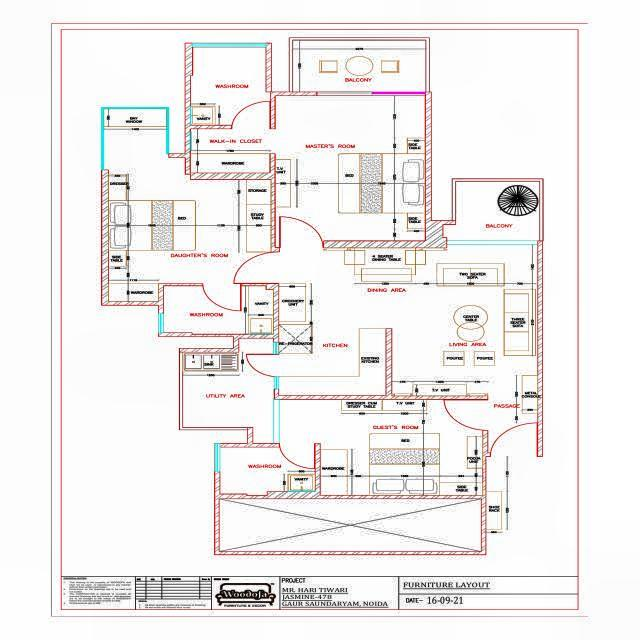room: (102, 107, 276, 307), (389, 247, 539, 416), (274, 97, 424, 240), (282, 400, 484, 494), (218, 500, 479, 552), (184, 339, 274, 442), (280, 326, 387, 394), (294, 41, 425, 89), (444, 180, 541, 240), (194, 48, 269, 125), (164, 286, 273, 332), (335, 249, 429, 299), (220, 448, 314, 492), (192, 130, 270, 171)
